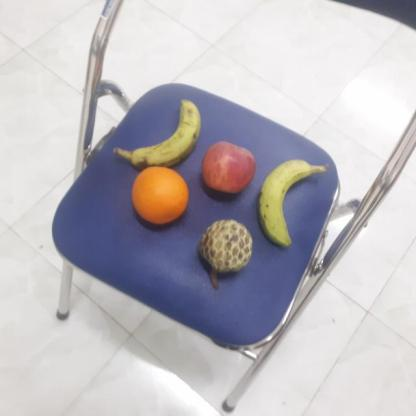annona: (199, 219, 254, 272)
apple: (200, 136, 257, 197)
banana: (255, 157, 320, 248), (130, 99, 202, 170)
orange: (132, 167, 188, 225)
